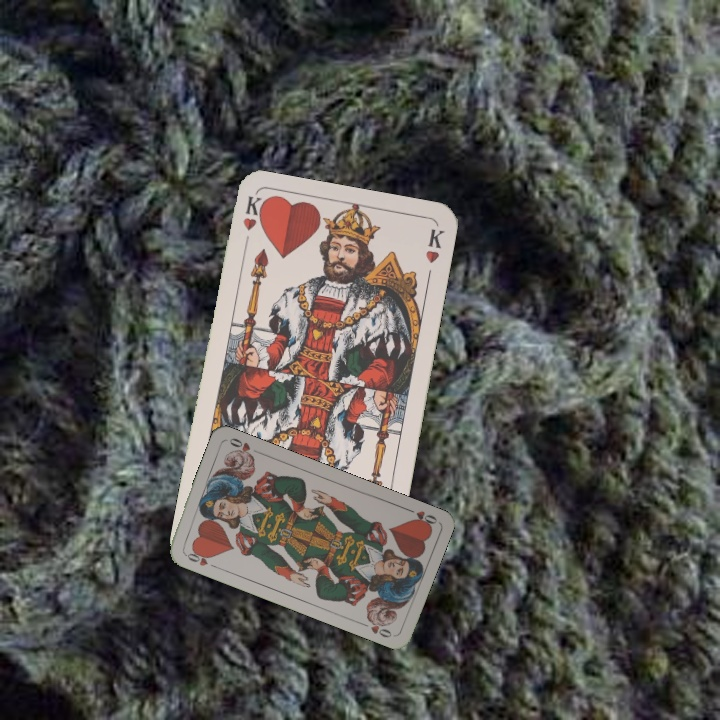HK: (239, 193, 265, 252)
HO: (180, 545, 219, 571), (401, 503, 440, 529)
